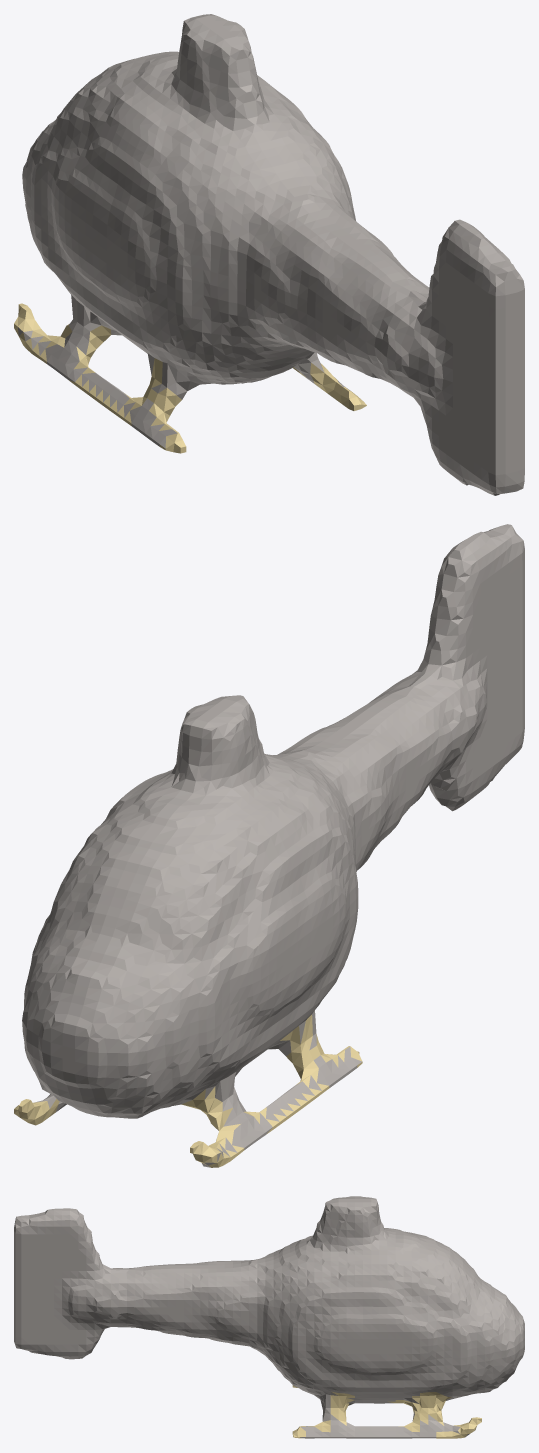
Rendered from unit_wasp.glb.
3 views of the same model, one above another, from view 1: azimuth 30°, elevation 25°; view 2: azimuth 150°, elevation 25°; view 3: azimuth 270°, elevation 25° (orthographic). The views are drawn at different scales.
Parts seen in each view (by area): view 1: Mesh_0.045; view 2: Mesh_0.045; view 3: Mesh_0.045.
Part boxes in pixels (<box>): Mesh_0.045: <box>14,14,524,495</box>; Mesh_0.045: <box>14,524,524,1167</box>; Mesh_0.045: <box>14,1196,524,1438</box>.
Bounding box in the file's own units: 0.7491 × 1.28 × 2.8.
